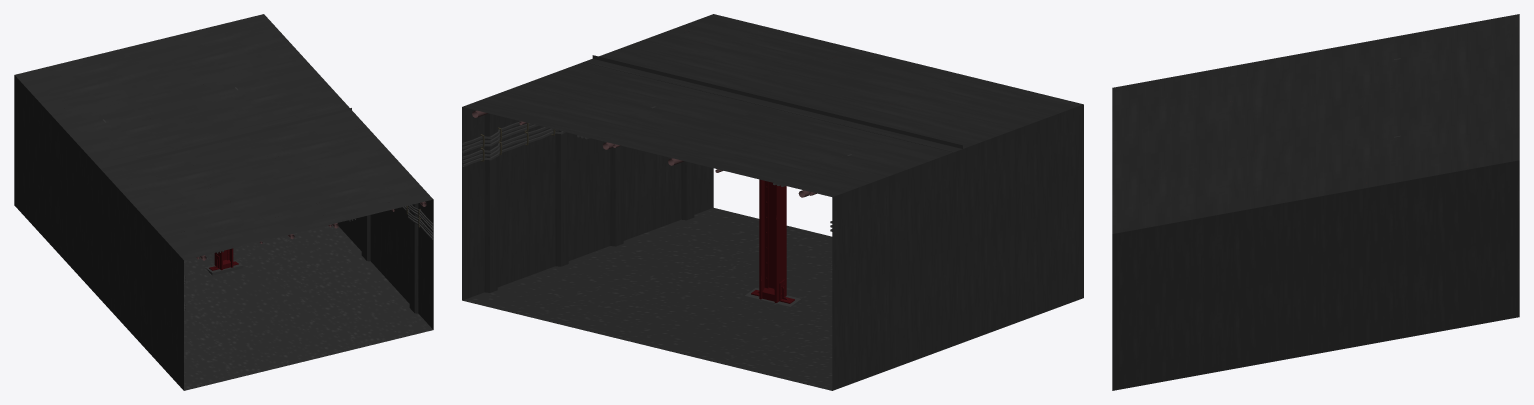
File: SW_ENV_RailTunnel_TrackRise_Double_10m_FF.fbx
The picture shows the model from 3 angles, left to right: view 1: azimuth 30°, elevation 25°; view 2: azimuth 150°, elevation 25°; view 3: azimuth 270°, elevation 25°; orthographic projection. The views are drawn at different scales.
Parts seen in each view (by area): view 1: SW_ENV_RailTunnel_TrackRise_Double_10m_FF; view 2: SW_ENV_RailTunnel_TrackRise_Double_10m_FF; view 3: SW_ENV_RailTunnel_TrackRise_Double_10m_FF.
Boxes of the visible parts, bbox=[...] form: SW_ENV_RailTunnel_TrackRise_Double_10m_FF: bbox=[14, 14, 433, 390]; SW_ENV_RailTunnel_TrackRise_Double_10m_FF: bbox=[462, 14, 1083, 390]; SW_ENV_RailTunnel_TrackRise_Double_10m_FF: bbox=[1112, 14, 1519, 390].
Size of the model in its own units: 8.5 by 6.25 by 10.
